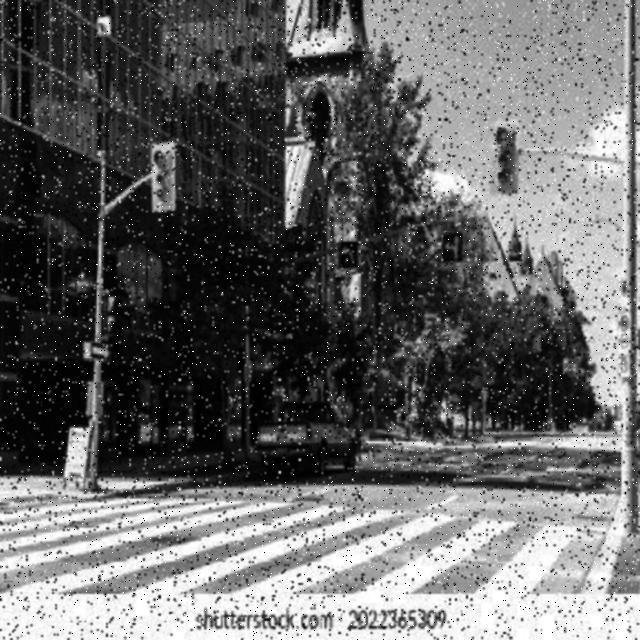crosswalk: (1, 495, 611, 599)
